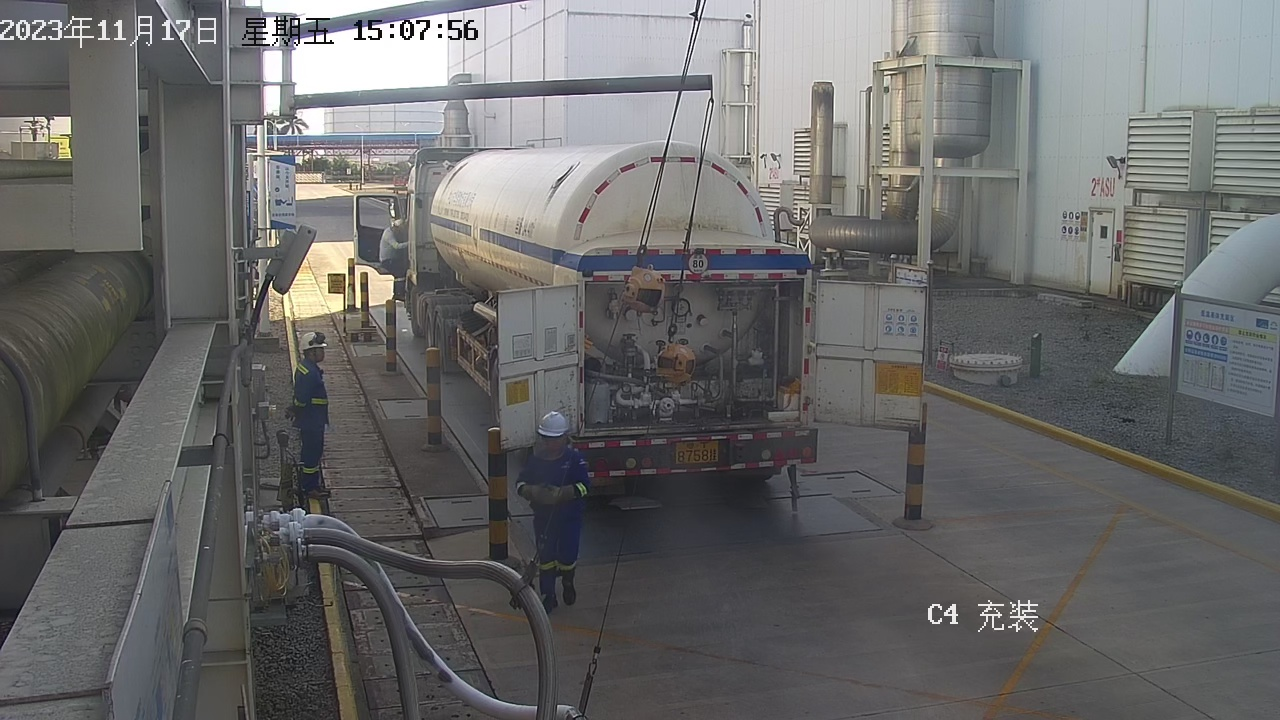Head_with_Helmet: (509, 394, 589, 473), (285, 319, 338, 368)
Uniform: (497, 437, 635, 623), (266, 353, 349, 502)
